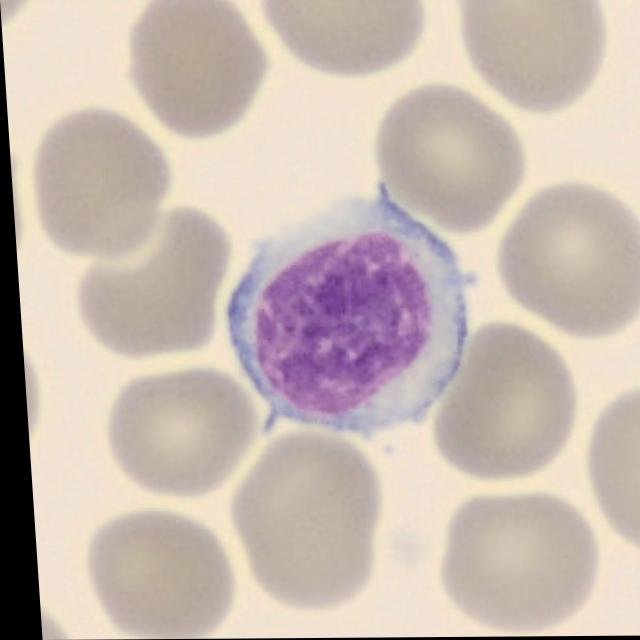Linfocito atipico: (223, 183, 466, 437)
